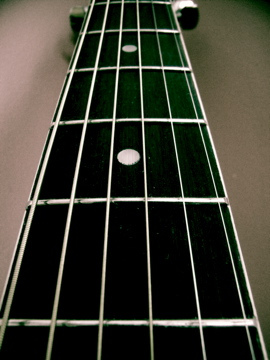guitar: (1, 1, 270, 360)
